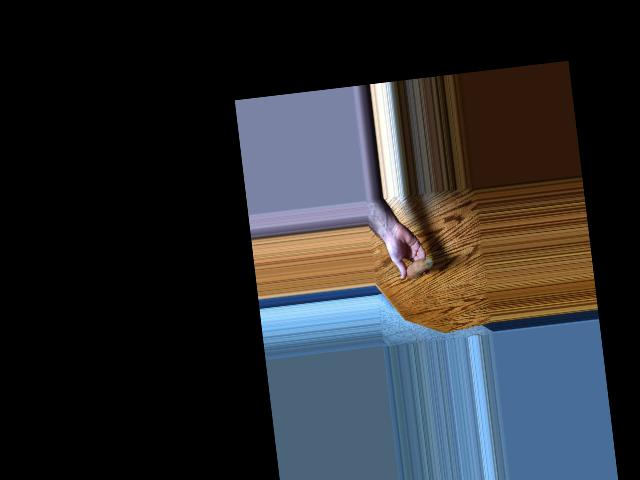sweet_potato: (402, 254, 434, 276)
